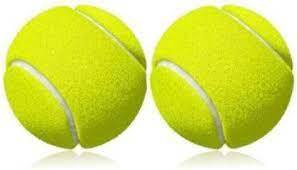Ball: (3, 2, 147, 149), (152, 4, 294, 150)
